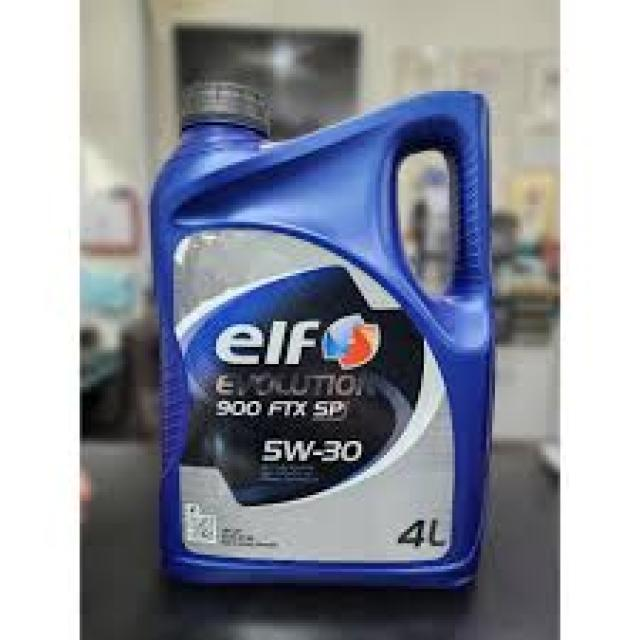motor_oil: (145, 77, 500, 614)
